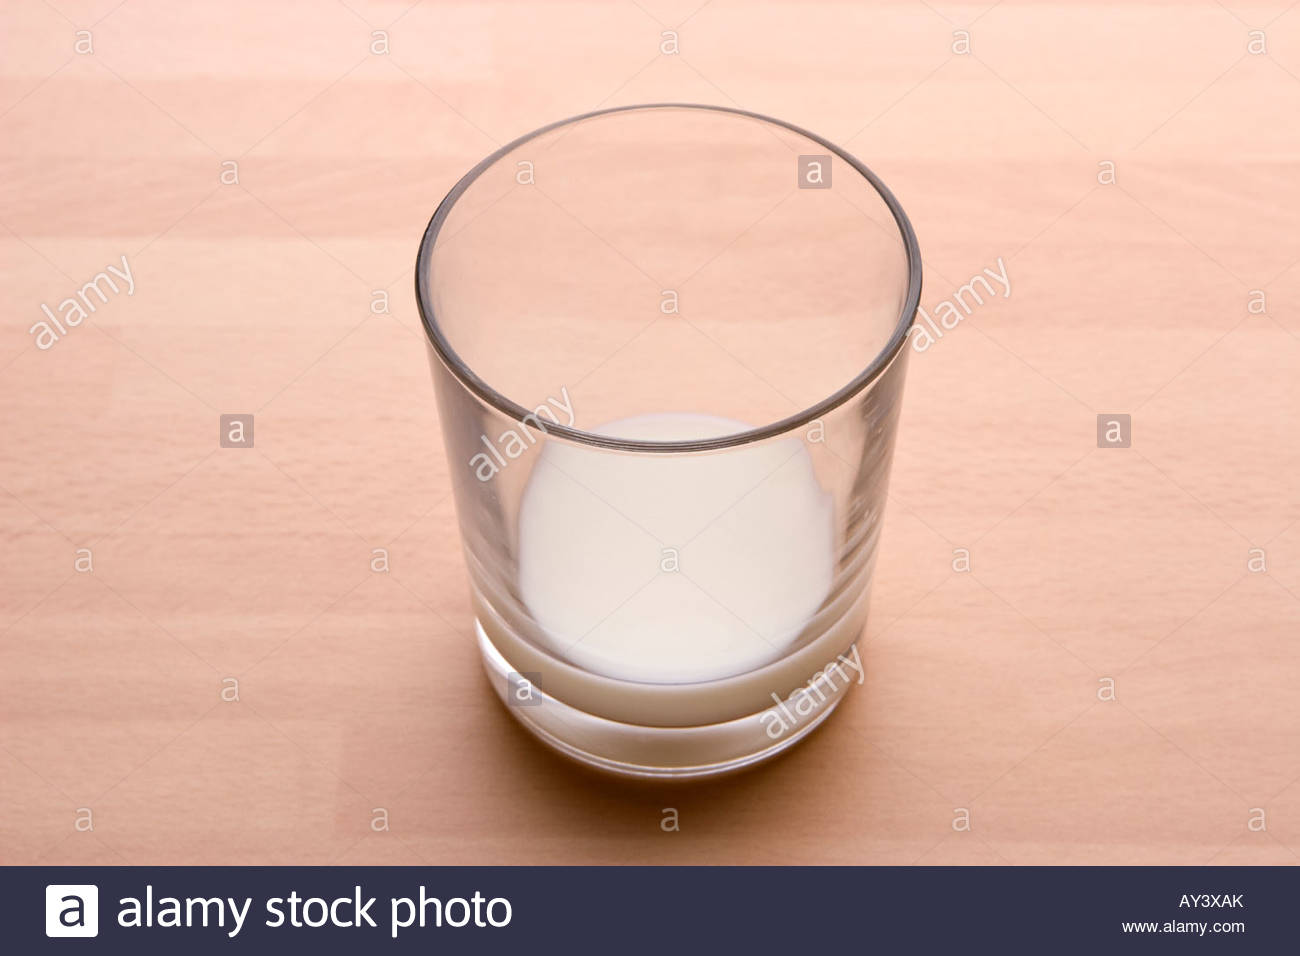glass of milk: (430, 102, 923, 783)
